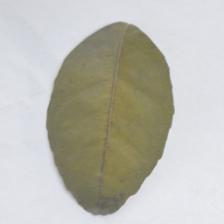greening: (46, 36, 166, 174)
